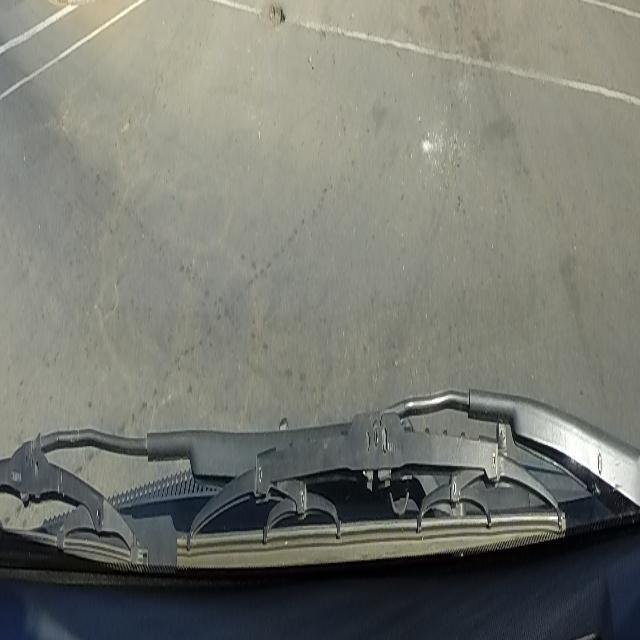pothole: (259, 0, 286, 34)
